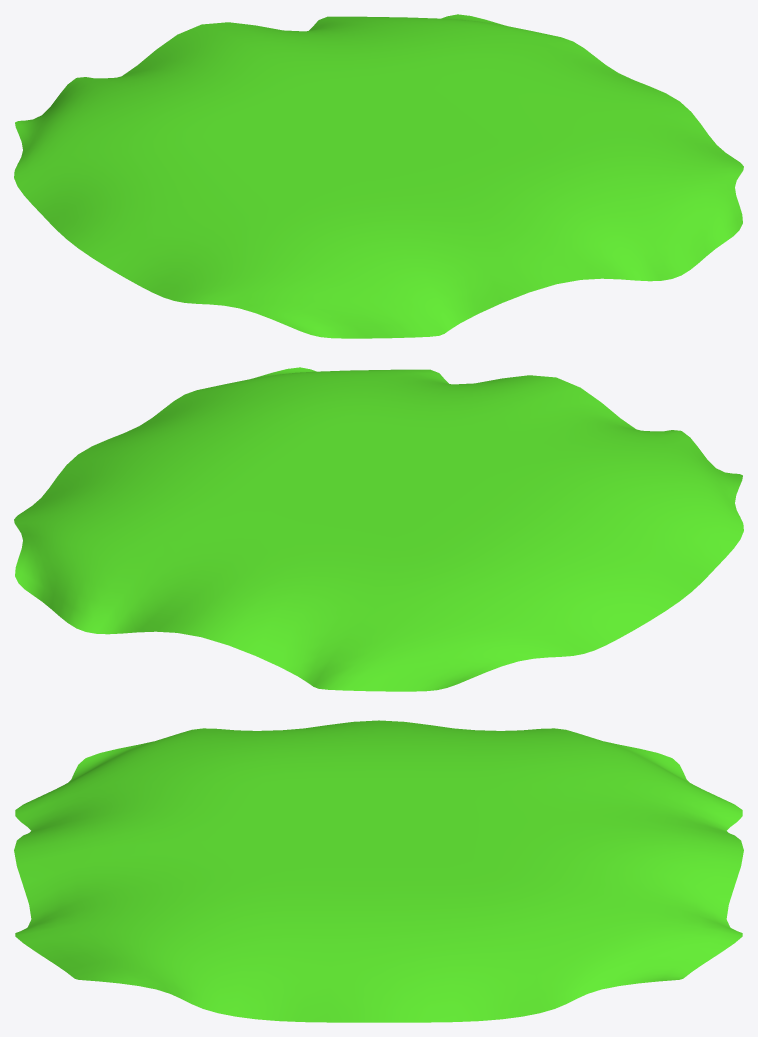
Rendered from lechuga.glb.
3 views of the same model, one above another, from view 1: azimuth 30°, elevation 25°; view 2: azimuth 150°, elevation 25°; view 3: azimuth 270°, elevation 25° (orthographic). The views are drawn at different scales.
Parts seen in each view (by area): view 1: Lechuga; view 2: Lechuga; view 3: Lechuga.
Part boxes in pixels (x1,y1,x2,y2): Lechuga: [14, 14, 743, 338]; Lechuga: [14, 367, 743, 691]; Lechuga: [14, 720, 743, 1022].
Bounding box in the file's own units: 2.09 × 0.1522 × 2.13.
